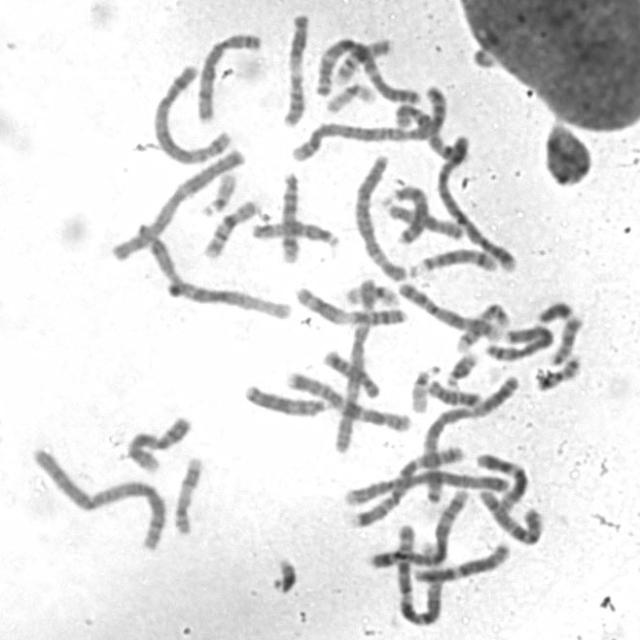A1: (126, 217, 294, 322), (391, 518, 445, 626)
A2: (26, 441, 170, 553), (287, 83, 451, 163)
A3: (418, 372, 524, 506), (312, 32, 423, 106)
B4: (433, 129, 521, 273), (340, 465, 512, 507)
B5: (364, 482, 472, 572), (149, 59, 235, 164)
C10: (329, 314, 374, 458), (474, 484, 546, 546)
C11: (290, 280, 409, 328), (276, 7, 310, 128)
C12: (408, 536, 512, 584), (471, 447, 531, 512)
C6: (105, 140, 247, 264), (349, 150, 412, 285)
C7: (345, 442, 469, 528), (281, 366, 413, 434)
C8: (192, 28, 264, 124), (482, 320, 556, 363)
C9: (392, 277, 507, 343), (122, 410, 194, 475)
D13: (239, 379, 330, 418), (387, 180, 431, 247)
D14: (405, 244, 501, 278), (276, 165, 302, 266)
D15: (377, 191, 468, 242), (246, 216, 341, 248)
E16: (198, 195, 260, 260), (329, 33, 394, 88)
E17: (450, 297, 511, 353), (169, 451, 205, 537)
E18: (320, 345, 382, 400), (422, 375, 483, 408)
F19: (322, 78, 379, 115), (340, 279, 402, 308)
F20: (531, 350, 585, 392), (546, 311, 586, 366)
G21: (440, 346, 480, 389), (266, 552, 300, 597)
G22: (196, 167, 240, 218), (407, 359, 442, 415)
X: (482, 320, 556, 363)
Y: (534, 296, 575, 325)
